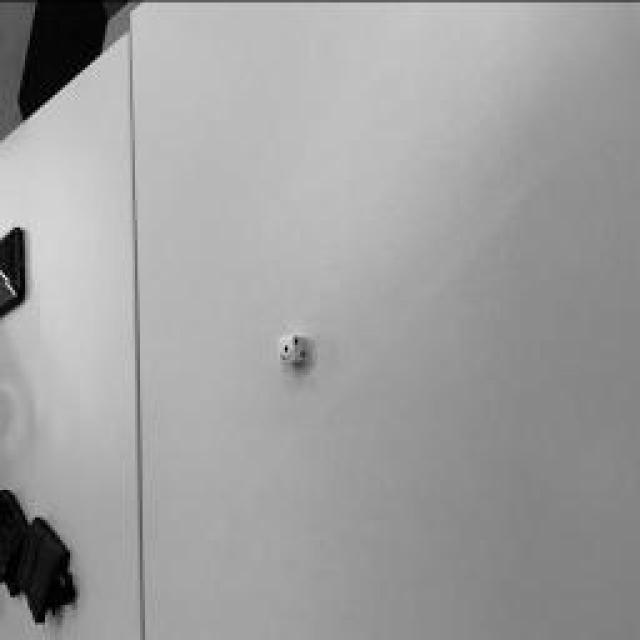dice_1: (278, 335, 294, 363)
